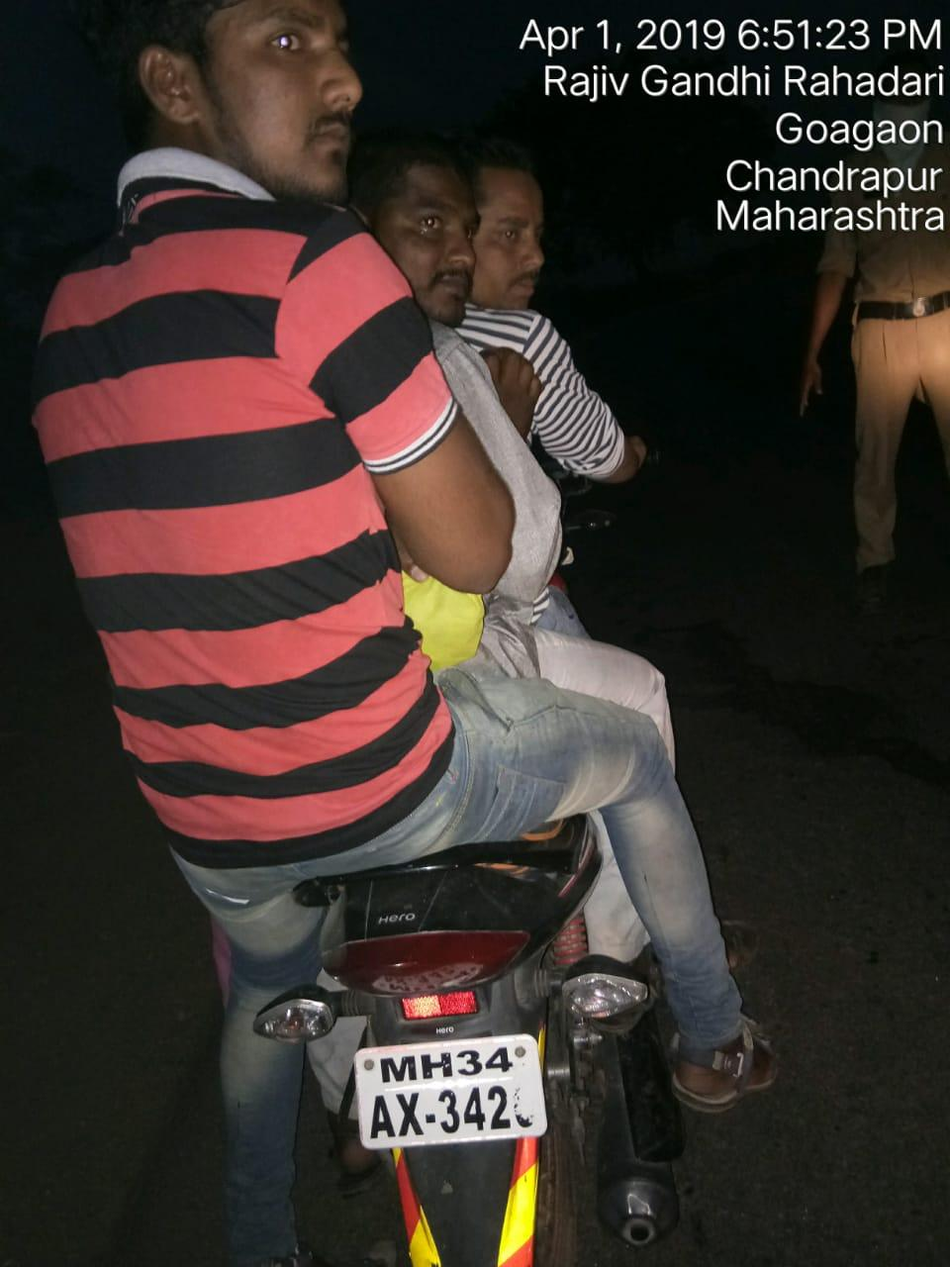plate: (340, 1017, 554, 1161)
